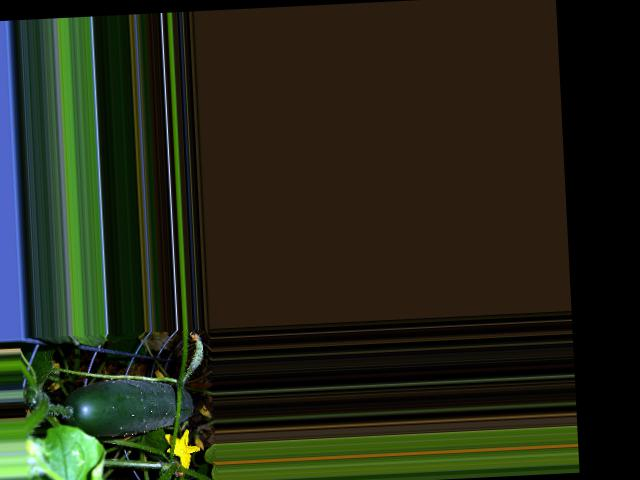cucumber: (61, 374, 193, 438)
